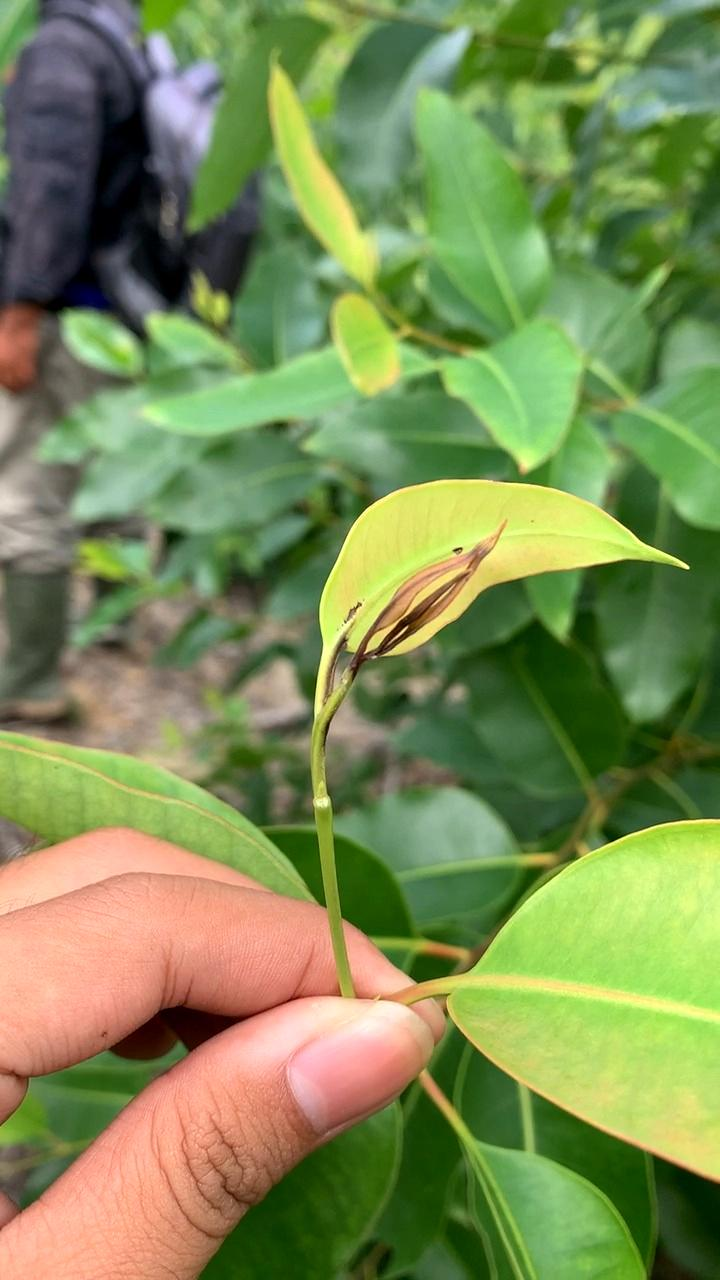Helopeltis-Withered Sprout: (315, 506, 523, 711)
